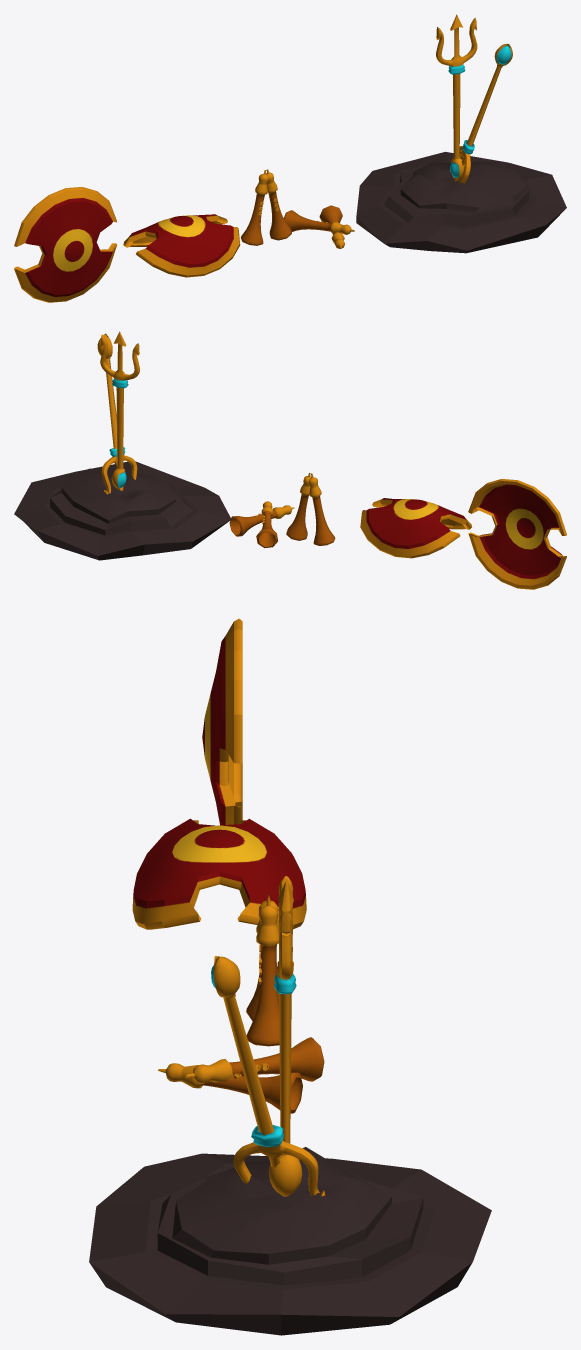
Rendered from trident_flute_shiled.fbx.
The picture shows the model from 3 angles, top to bottom: view 1: azimuth 30°, elevation 25°; view 2: azimuth 150°, elevation 25°; view 3: azimuth 270°, elevation 25°; orthographic projection. The views are drawn at different scales.
Visible parts, largest first — view 1: trident_broken, shiled3, shiled_broken, trident_fixed, flute_fixed, flute_broken; view 2: trident_broken, shiled3, shiled_broken, trident_fixed, flute_fixed, flute_broken; view 3: trident_broken, shiled_broken, shiled3, trident_fixed, flute_broken, flute_fixed.
Part boxes in pixels (<box>): trident_broken: <box>356,43,566,253</box>; shiled3: <box>14,187,116,302</box>; shiled_broken: <box>123,214,240,277</box>; trident_fixed: <box>436,14,477,180</box>; flute_fixed: <box>241,169,291,245</box>; flute_broken: <box>283,205,354,248</box>; trident_broken: <box>14,333,230,560</box>; shiled3: <box>468,479,566,589</box>; shiled_broken: <box>360,498,471,558</box>; trident_fixed: <box>100,331,139,490</box>; flute_fixed: <box>286,473,335,545</box>; flute_broken: <box>229,501,294,548</box>; trident_broken: <box>89,956,491,1335</box>; shiled_broken: <box>132,818,306,929</box>; shiled3: <box>202,618,242,825</box>; trident_fixed: <box>269,876,302,1196</box>; flute_broken: <box>158,1037,324,1113</box>; flute_fixed: <box>246,894,279,1046</box>.
Bounding box in the file's own units: 435 × 149 × 144.
2 materials, 2 textured.
